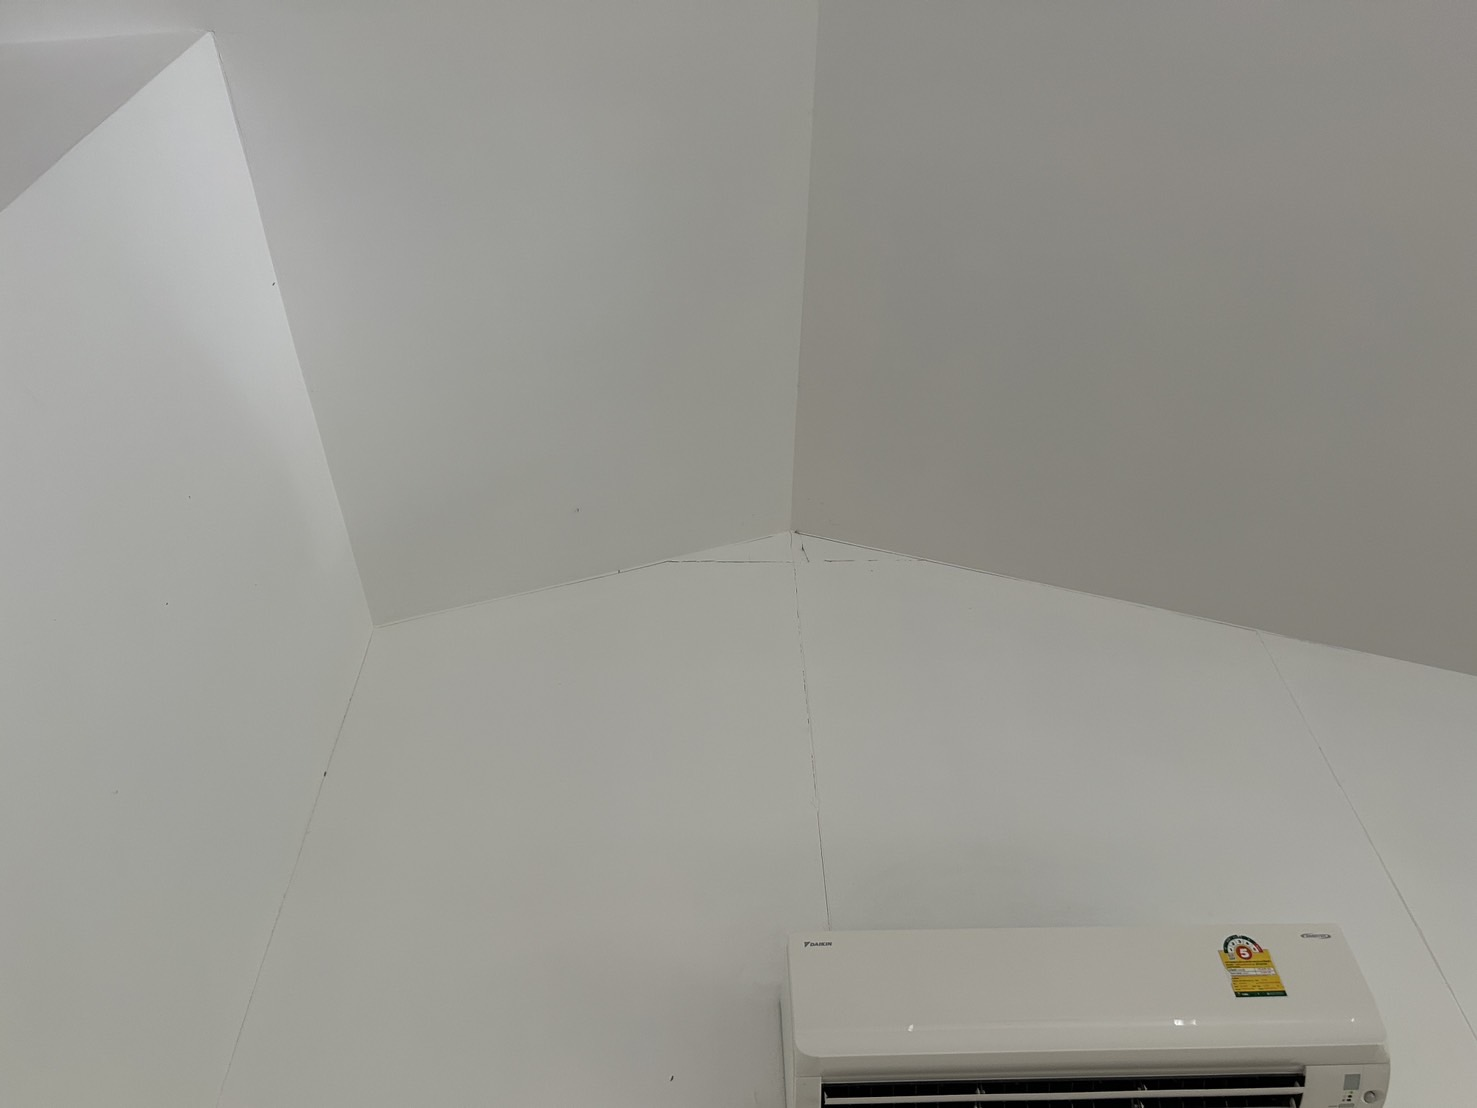Low: (676, 502, 950, 599)
